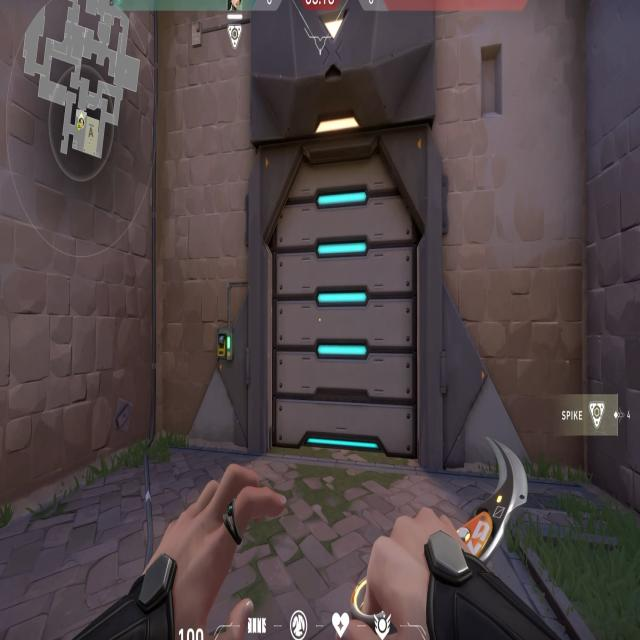A_Door: (257, 144, 436, 462)
